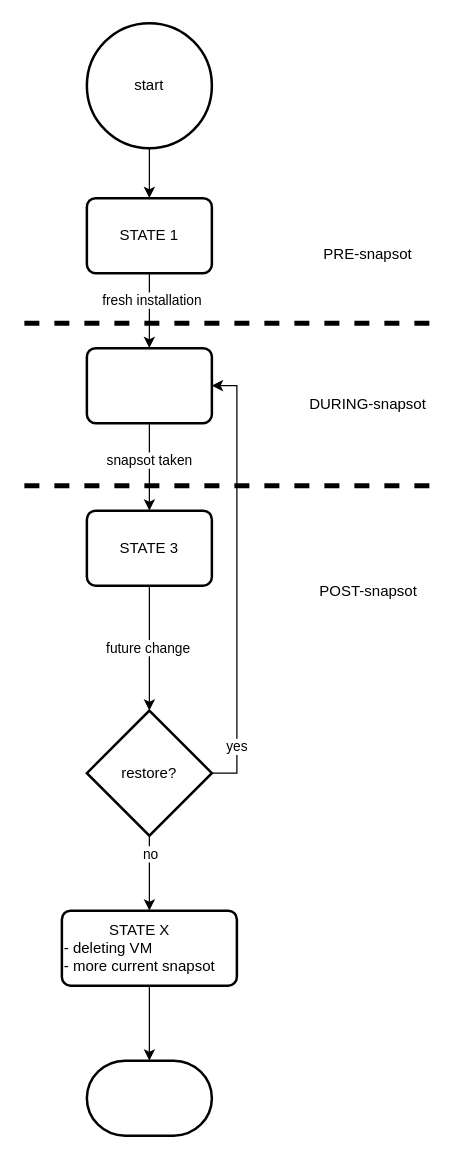
The diagram is 461 pixels wide and 1158 high, and some of its shapes have lost their labels. Each missing label, with the box of its shape:
End: (85, 1059, 212, 1136)
STATE 2: (85, 346, 212, 424)
